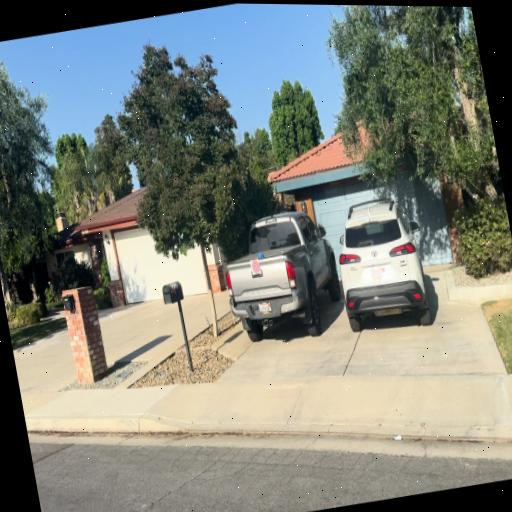bullseye: (250, 258, 261, 274)
